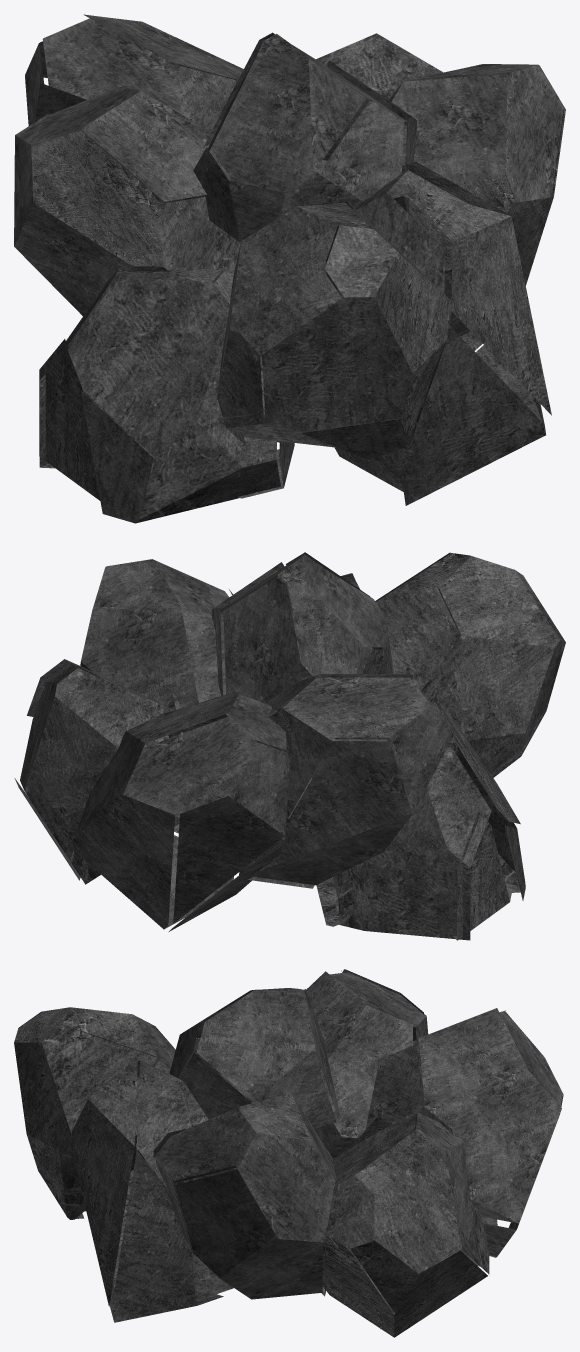
File: Stone0.obj
The picture shows the model from 3 angles, top to bottom: view 1: azimuth 30°, elevation 25°; view 2: azimuth 150°, elevation 25°; view 3: azimuth 270°, elevation 25°; orthographic projection. The views are drawn at different scales.
Visible parts, largest first — view 1: Object015; view 2: Object015; view 3: Object015.
Boxes of the visible parts, box(x1,y1,x2,y2) form: Object015: box(14, 14, 565, 523); Object015: box(14, 552, 565, 940); Object015: box(14, 969, 563, 1337).
Size of the model in its own units: 171 by 130 by 213.
1 material, 1 textured.
